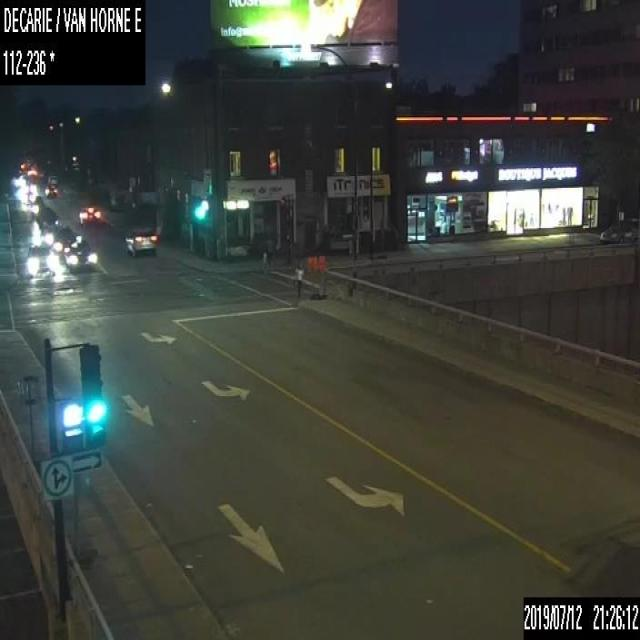construction: (67, 471, 97, 568), (19, 375, 39, 471), (304, 253, 316, 298), (316, 254, 326, 298), (261, 250, 269, 275)
pedestrian: (294, 260, 304, 300)
vehicle: (64, 234, 96, 274), (26, 243, 57, 274), (124, 227, 157, 255), (599, 222, 639, 242), (52, 225, 75, 252), (79, 204, 100, 224), (39, 210, 58, 230), (45, 184, 56, 196), (47, 175, 57, 185), (638, 239, 639, 240)
